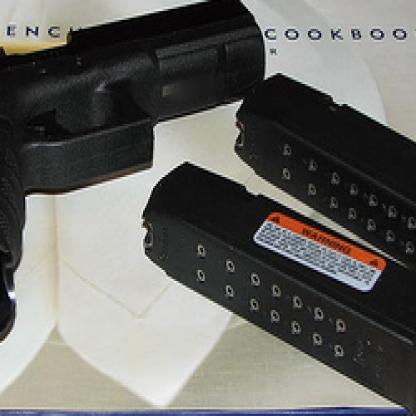gun: (0, 0, 285, 387)
